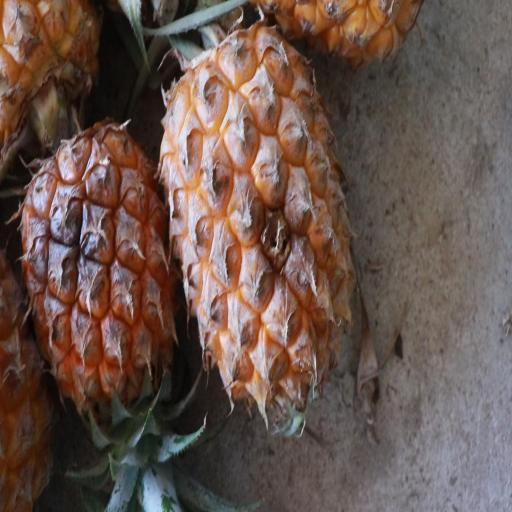Pineapple - v8 v1: (158, 14, 365, 433), (13, 121, 179, 435), (3, 492, 6, 497)
